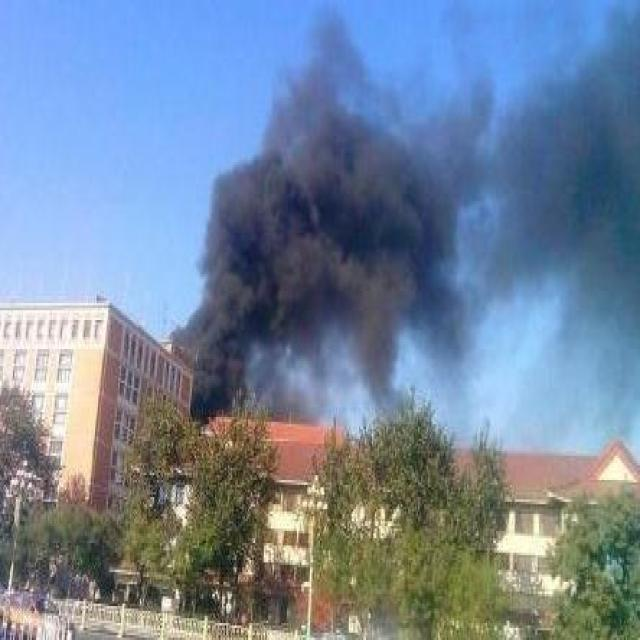Smoke: (173, 0, 492, 410), (498, 0, 640, 451)
